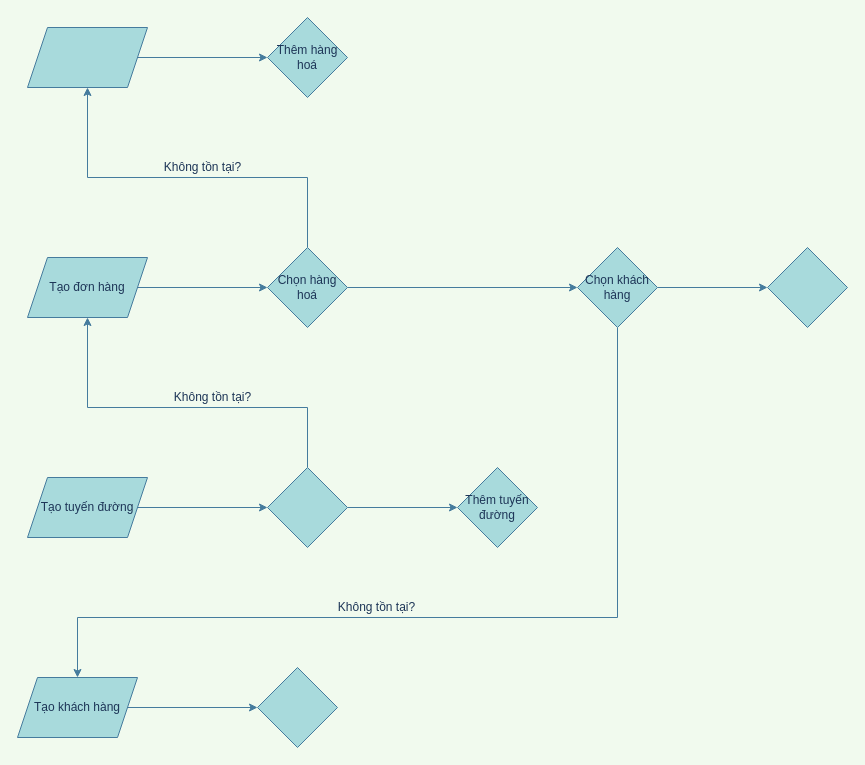
Some shapes in this 865 by 765 pixel diagram are drawn without their labels. Here are the shapes that lost their labels. From the top down, the centre of each, then its label:
At (x=87, y=57): "Tạo hàng hoá".
At (x=807, y=287): "Thêm đơn".
At (x=307, y=507): "Chọn đơn hàng".
At (x=297, y=707): "Thêm khách hàng".
